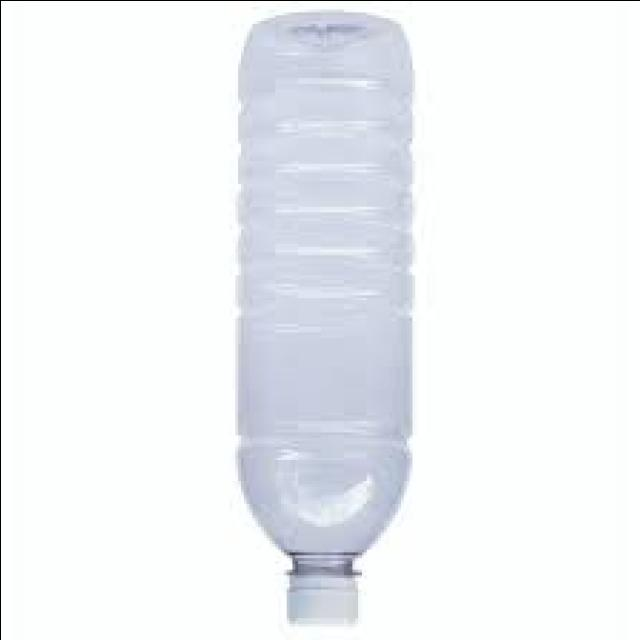plastic cup: (238, 13, 411, 592)
